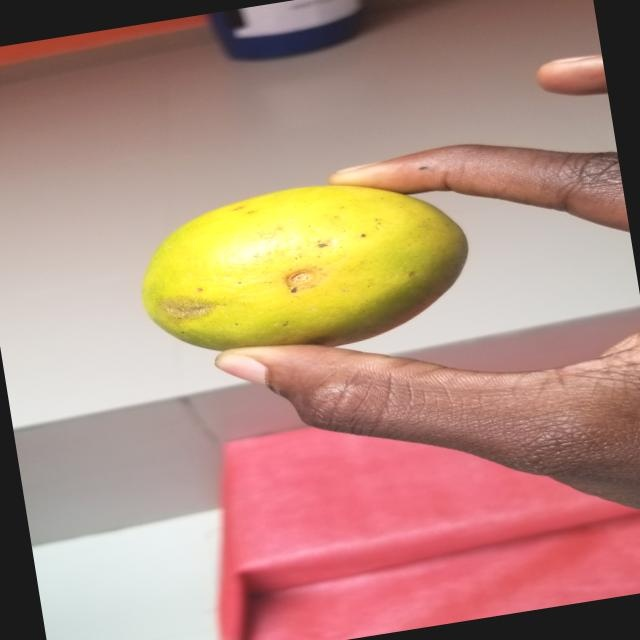agrume: (114, 155, 498, 378)
